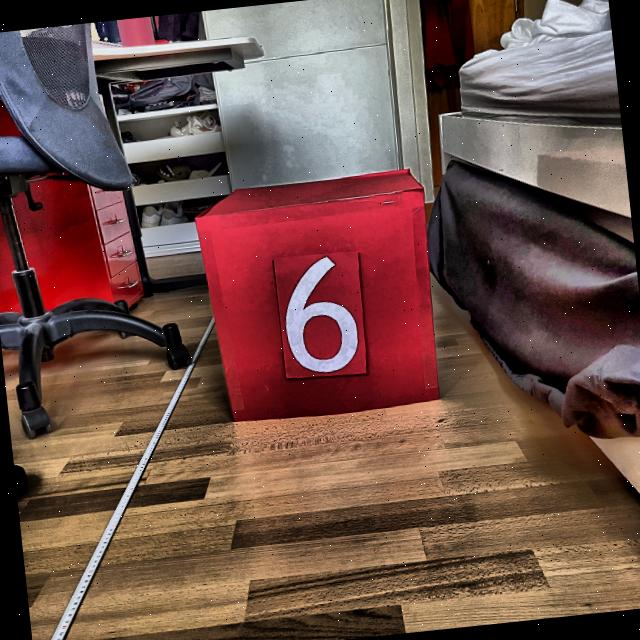red box: (191, 166, 448, 427)
six: (274, 252, 366, 377)
